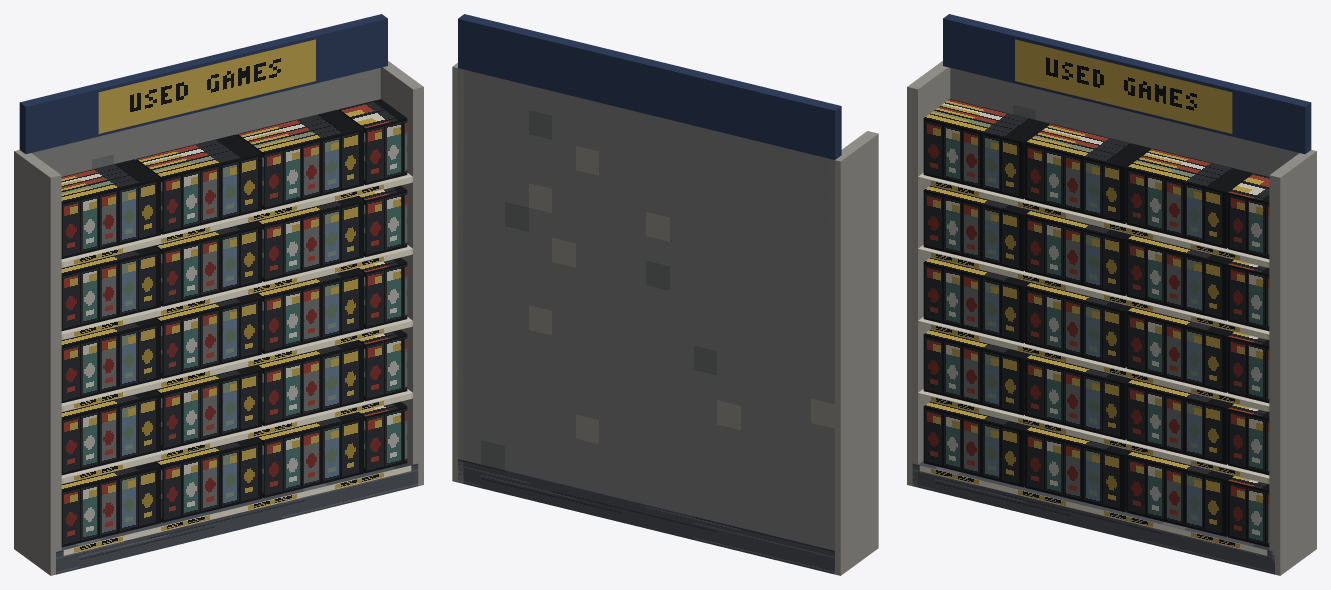
File: COM_GameWallShelf_Used.glb
The picture shows the model from 3 angles, left to right: view 1: azimuth 30°, elevation 25°; view 2: azimuth 150°, elevation 25°; view 3: azimuth 330°, elevation 25°; orthographic projection. The views are drawn at different scales.
Visible parts, largest first — view 1: COM_GameWallShelf_Used_Mesh; view 2: COM_GameWallShelf_Used_Mesh; view 3: COM_GameWallShelf_Used_Mesh.
Boxes of the visible parts, x1,y1,x2,y2 form: COM_GameWallShelf_Used_Mesh: (14,14,423,575); COM_GameWallShelf_Used_Mesh: (452,14,878,575); COM_GameWallShelf_Used_Mesh: (907,14,1316,575).
Size of what is drawn, in the model's own units: 2.06 by 2.35 by 0.351.
Materials: 1 (1 with a texture image).
